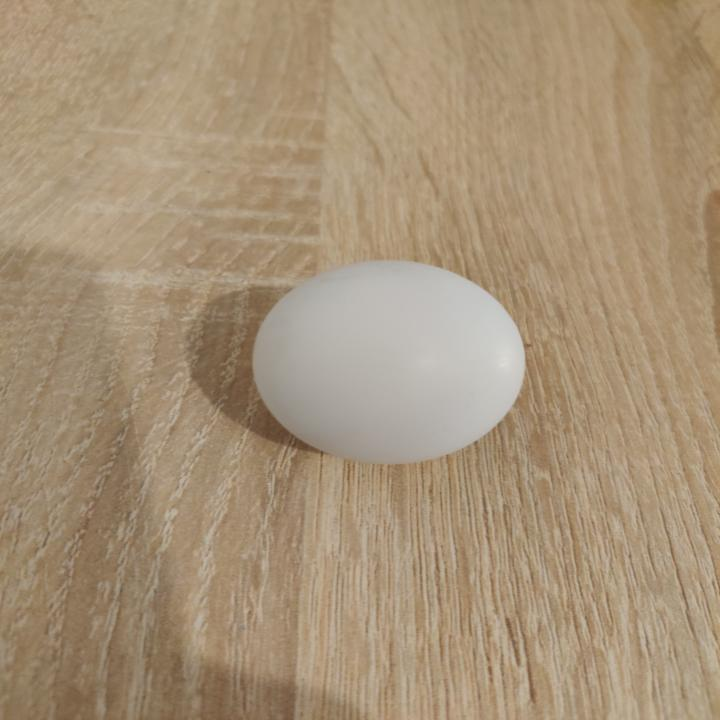white: (250, 257, 532, 468)
